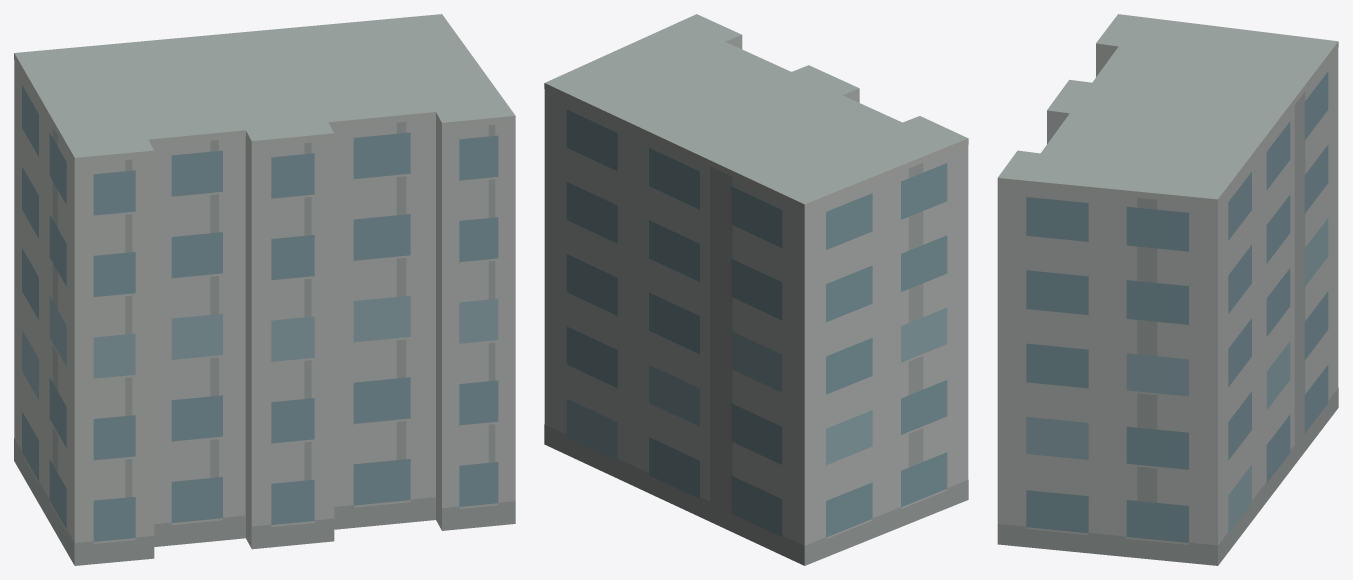
The model's file is survey-upis-32892878.glb.
3 views of the same model, side by side, from view 1: azimuth 30°, elevation 25°; view 2: azimuth 150°, elevation 25°; view 3: azimuth 270°, elevation 25° (orthographic). The views are drawn at different scales.
Visible parts, largest first — view 1: survey-upis-32892878.tmp; view 2: survey-upis-32892878.tmp; view 3: survey-upis-32892878.tmp.
Boxes of the visible parts, box(x1,y1,x2,y2) form: survey-upis-32892878.tmp: box(14, 14, 515, 565); survey-upis-32892878.tmp: box(544, 14, 968, 565); survey-upis-32892878.tmp: box(997, 14, 1338, 565).
Size of the model in its own units: 15.52 by 14.3 by 12.07.
